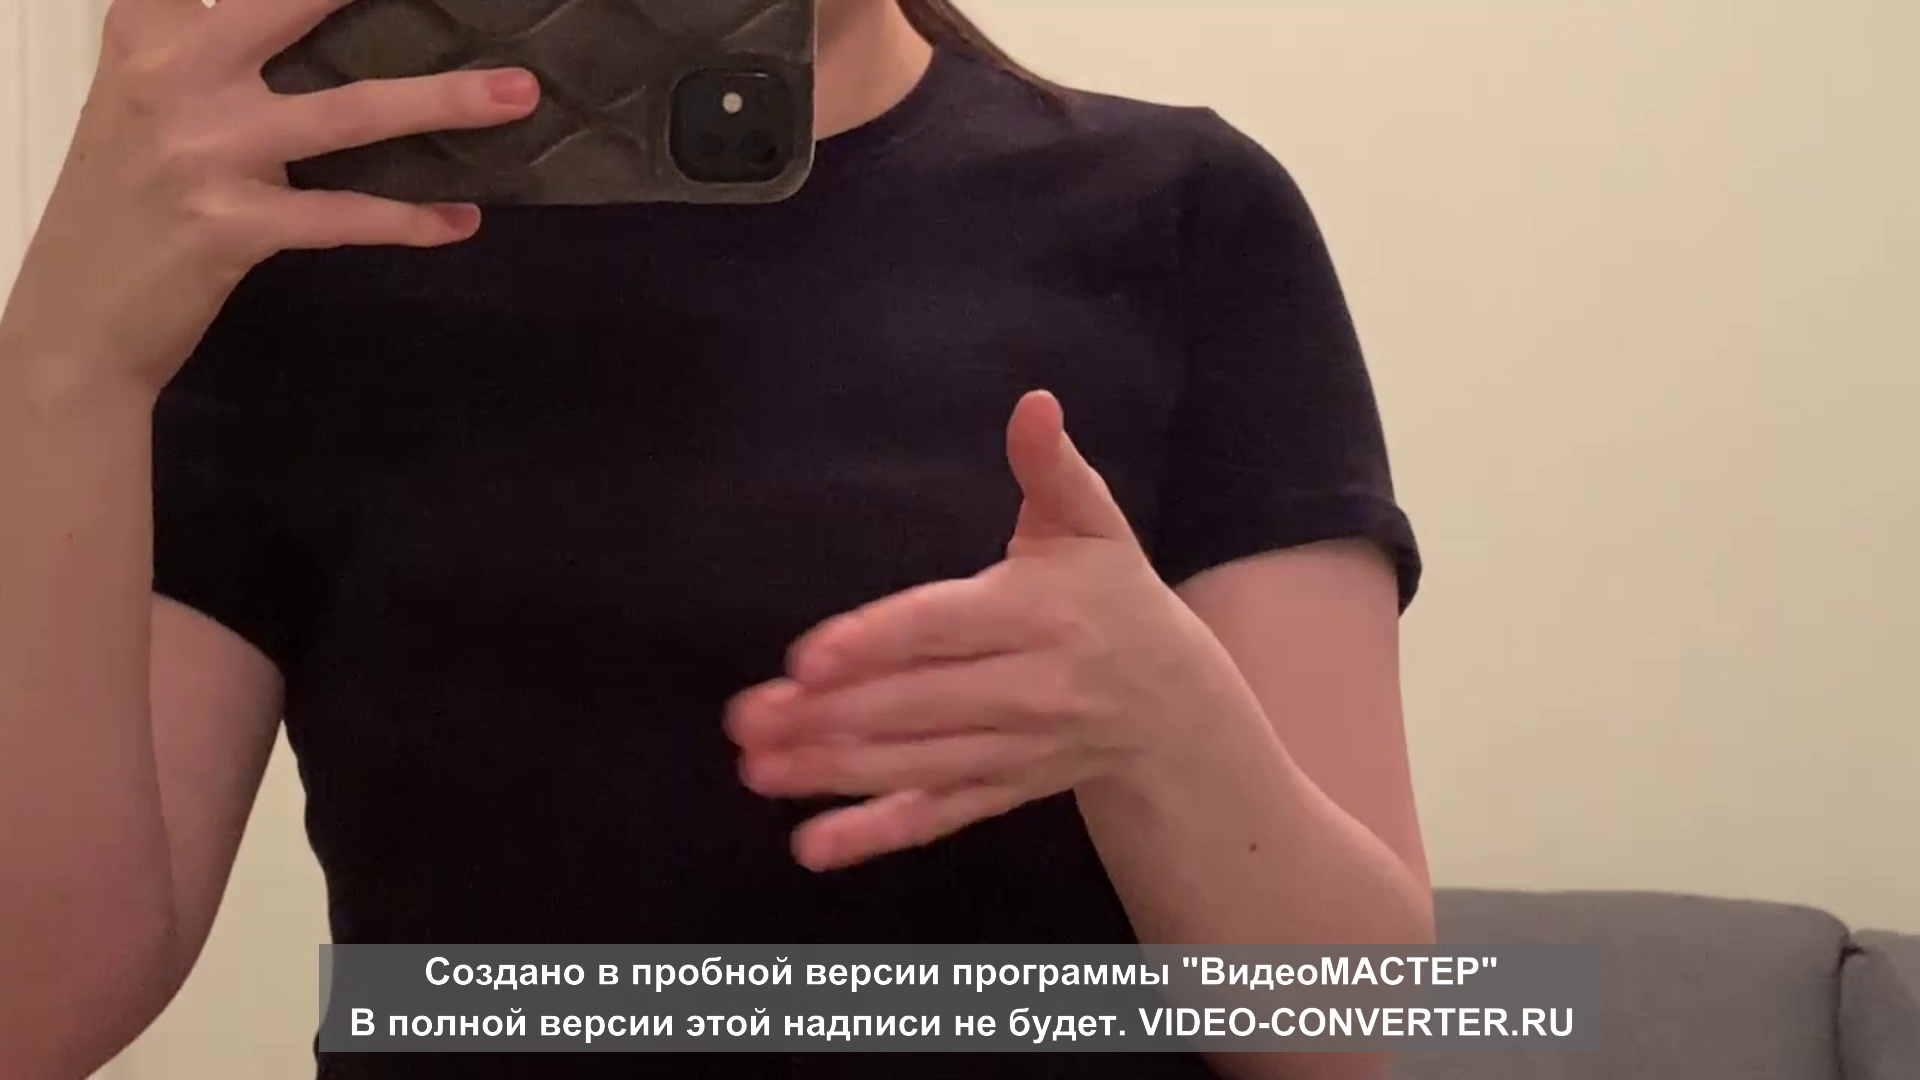Кисть: (727, 392, 1178, 870)
